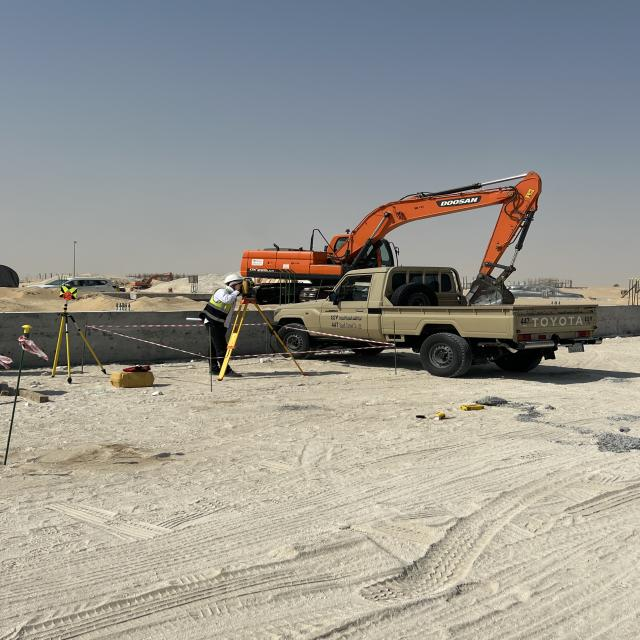excavator: (240, 168, 541, 300)
